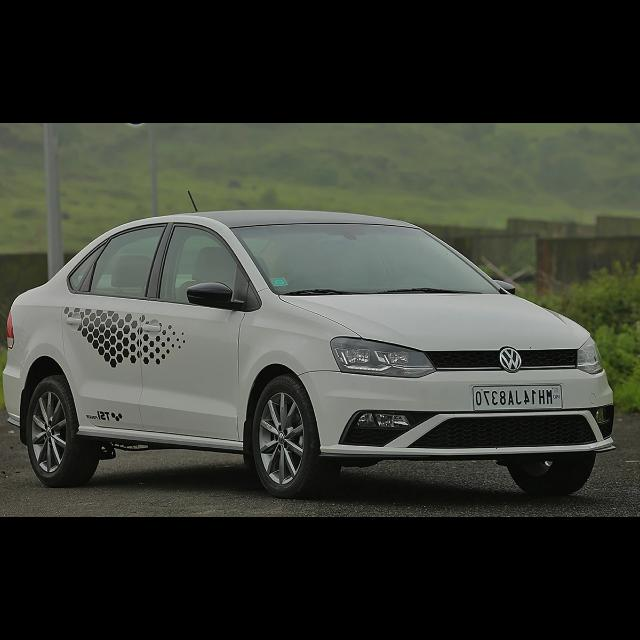number-plate: (477, 384, 564, 408)
vehicles: (10, 207, 620, 502)
